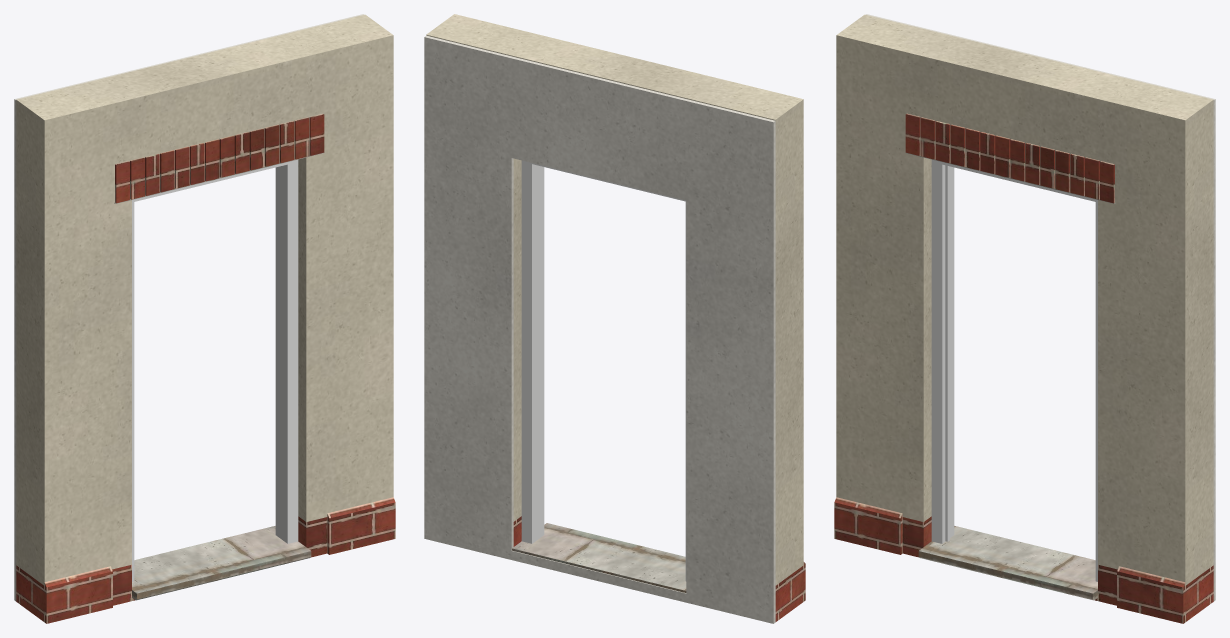
File: gw_bdoor.glb
The picture shows the model from 3 angles, left to right: view 1: azimuth 30°, elevation 25°; view 2: azimuth 150°, elevation 25°; view 3: azimuth 330°, elevation 25°; orthographic projection.
Visible parts, largest first — view 1: gw_bdoor_render, gw_bdoor_brick, gw_bdoor_frame, gw_bdoor_cill, gw_bdoor_plaster; view 2: gw_bdoor_plaster, gw_bdoor_render, gw_bdoor_frame, gw_bdoor_cill, gw_bdoor_brick; view 3: gw_bdoor_render, gw_bdoor_brick, gw_bdoor_frame, gw_bdoor_cill, gw_bdoor_plaster.
Boxes of the visible parts, x1,y1,x2,y2 form: gw_bdoor_render: (16, 14, 393, 585); gw_bdoor_brick: (16, 113, 395, 623); gw_bdoor_frame: (132, 159, 298, 581); gw_bdoor_cill: (114, 152, 324, 600); gw_bdoor_plaster: (14, 14, 363, 601); gw_bdoor_plaster: (424, 35, 775, 623); gw_bdoor_render: (426, 14, 803, 585); gw_bdoor_frame: (521, 160, 686, 581); gw_bdoor_cill: (512, 523, 686, 592); gw_bdoor_brick: (513, 516, 805, 621); gw_bdoor_render: (836, 14, 1213, 585); gw_bdoor_brick: (834, 113, 1213, 623); gw_bdoor_frame: (931, 159, 1097, 581); gw_bdoor_cill: (905, 152, 1115, 600); gw_bdoor_plaster: (866, 14, 1215, 601).
Bounding box in the file's own units: 2 × 2.75 × 0.35.
5 materials, 4 textured.
